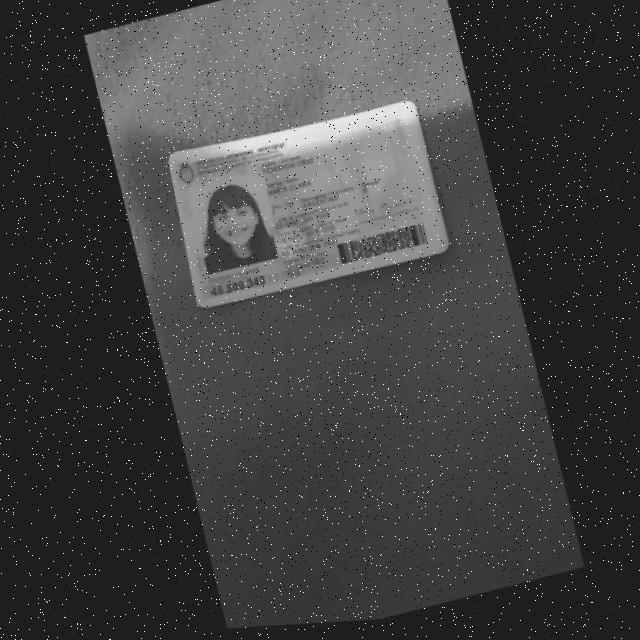card: (169, 101, 448, 307)
